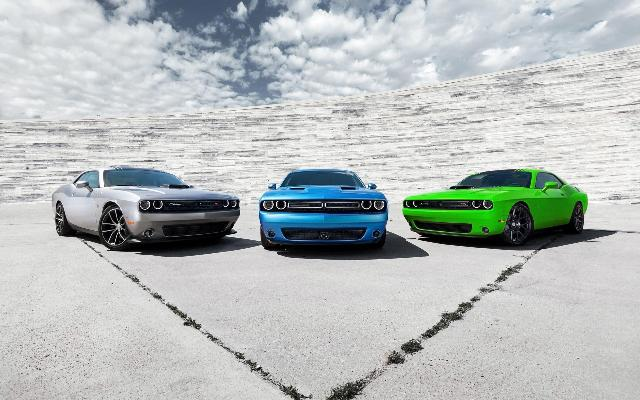dodge: (52, 167, 242, 251), (402, 168, 588, 246), (257, 168, 388, 254)
